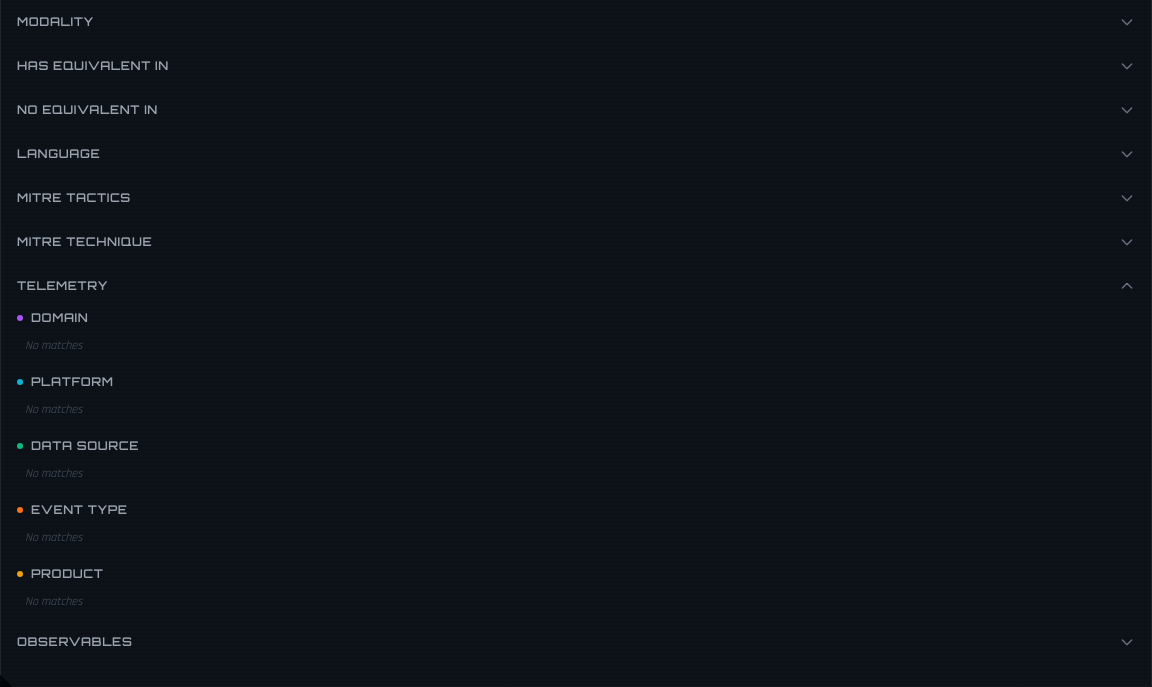
Test: FilterPanel (#25 simplification) › observables section is facet-backed, not free text
The width and height of the screenshot is (1152, 687).
(page scrolled)
Click the button "Observables" at (75, 641), box [17,626,1135,658]
(page scrolled)
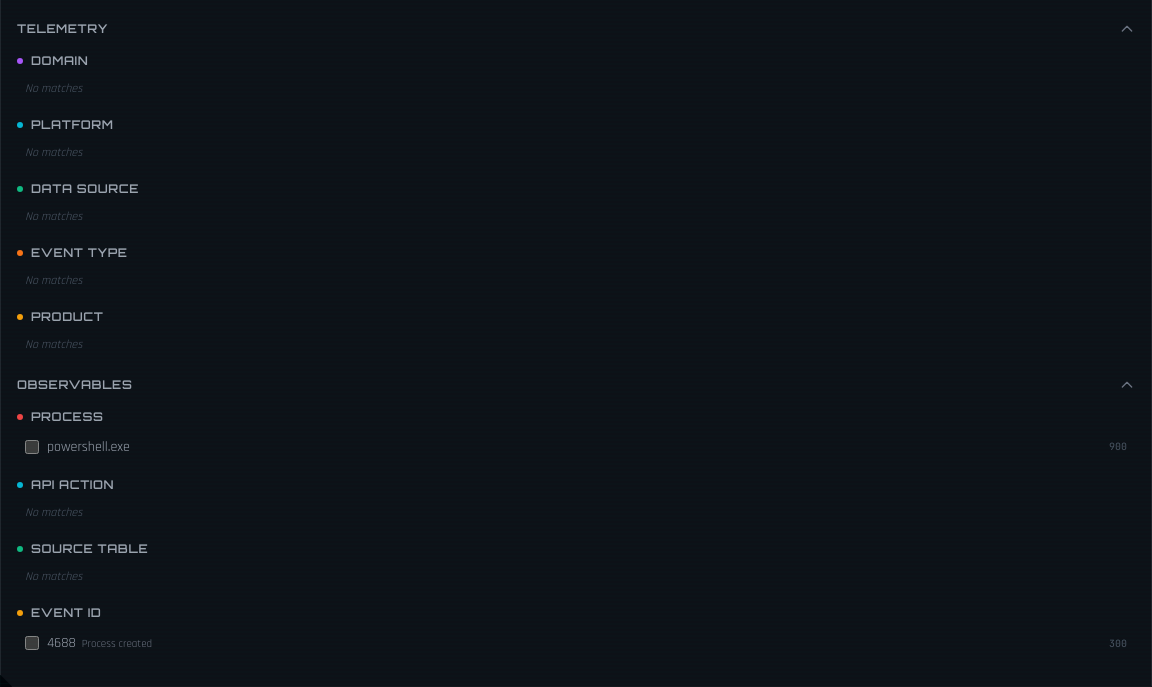
Expected: the text "powershell.exe" is shown, [47,436,130,456]
Expected: the text "4688" is shown, [47,634,76,652]
